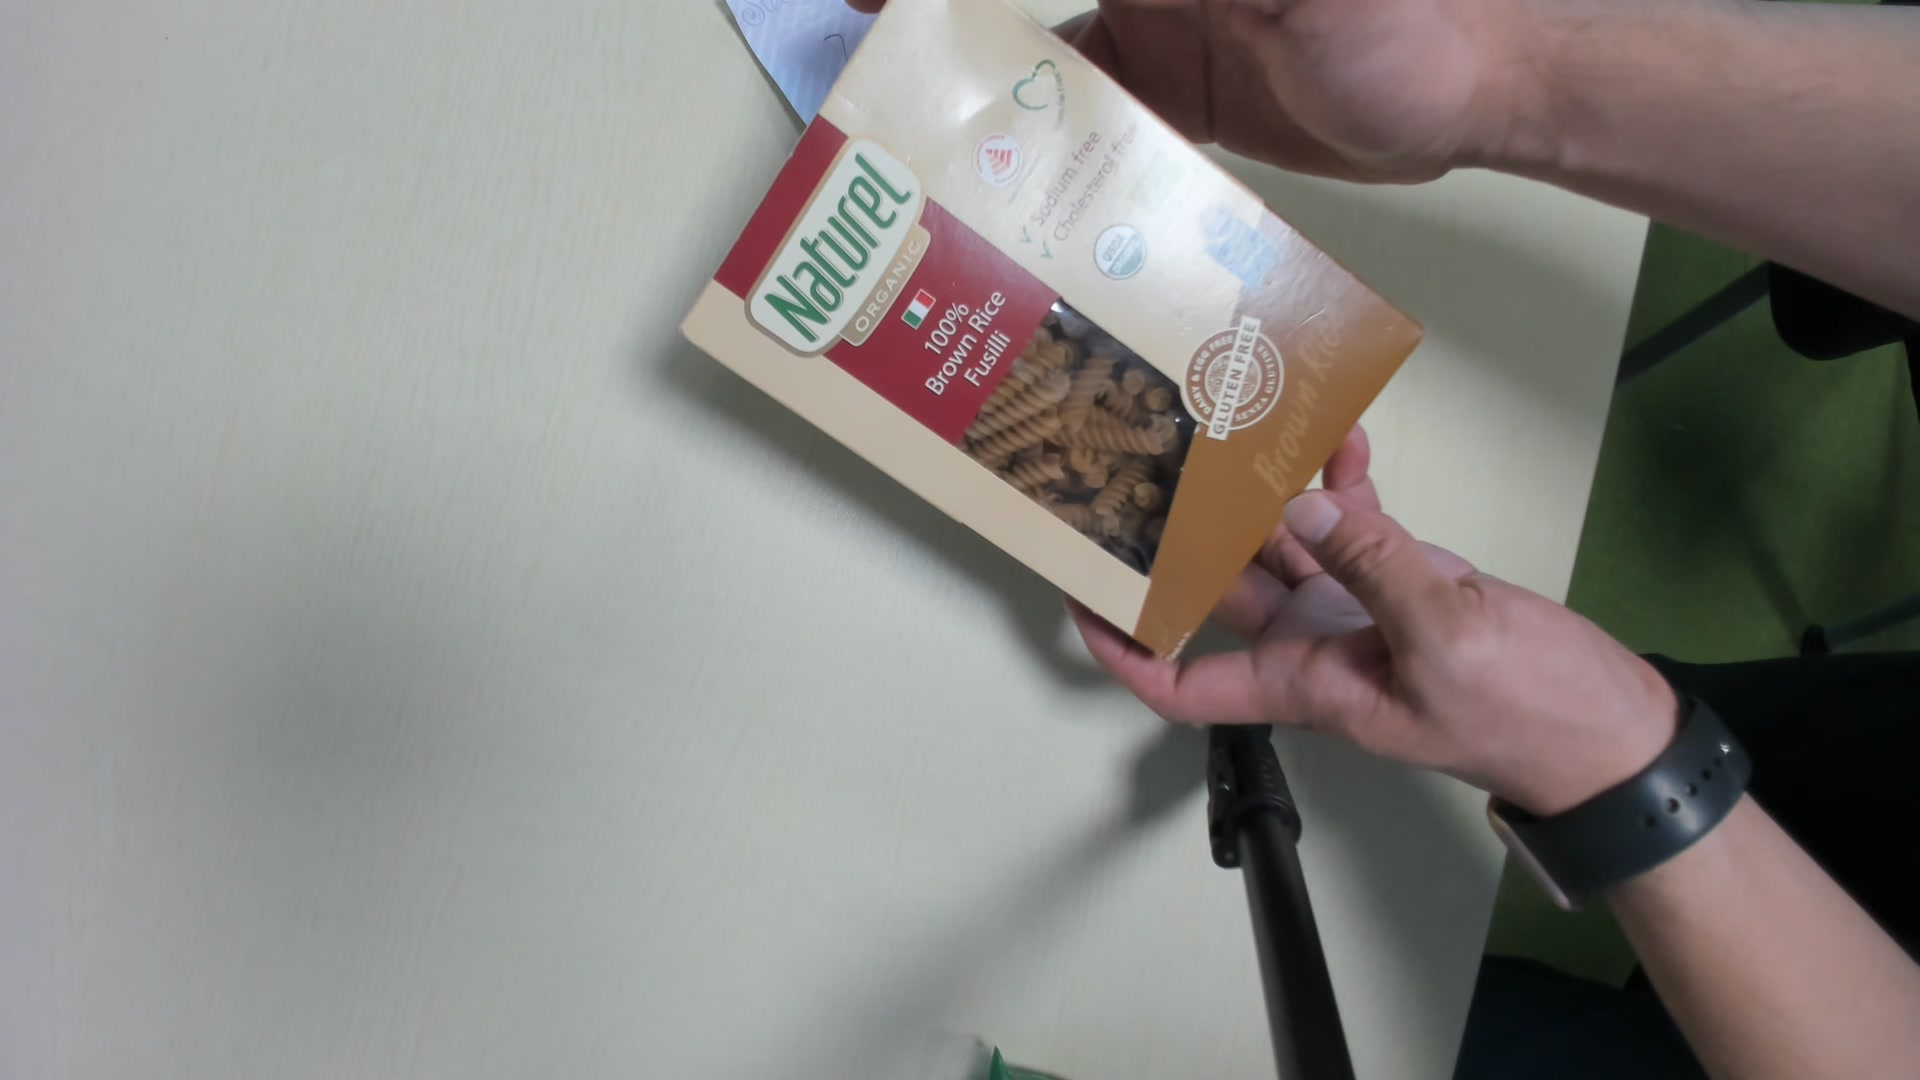Pasta_200-299g_Halal_Healthy: (670, 1, 1437, 680)
